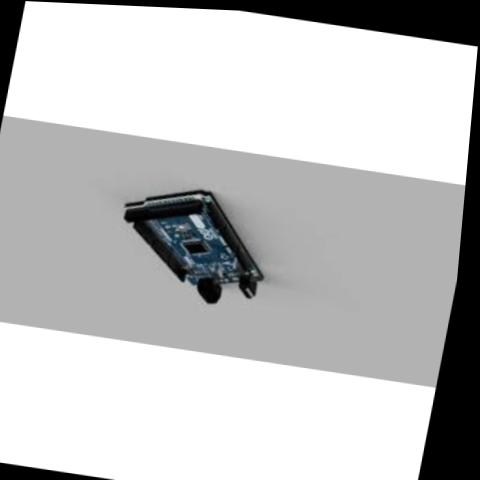Arduino-Mega: (99, 168, 290, 321)
